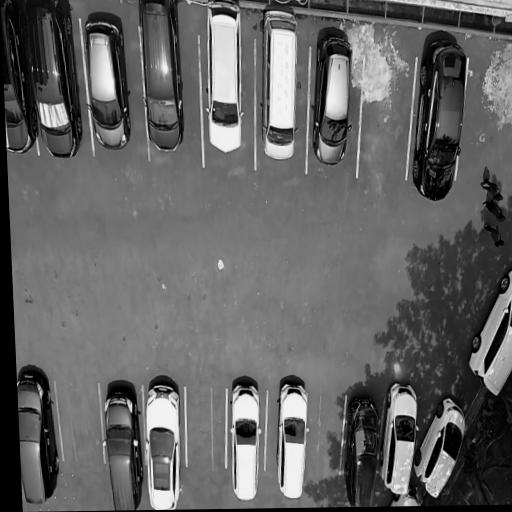Car: (403, 31, 474, 205), (26, 0, 85, 174), (252, 6, 304, 166), (201, 0, 251, 160), (139, 0, 187, 160), (82, 17, 135, 156), (307, 30, 357, 172), (463, 261, 512, 402), (139, 375, 188, 510), (0, 0, 37, 174), (99, 373, 145, 511), (20, 361, 62, 512), (416, 396, 470, 505), (226, 378, 269, 509), (376, 383, 423, 502), (270, 377, 312, 503), (341, 387, 384, 507)
Space Available: (365, 35, 408, 189), (61, 370, 102, 480), (184, 376, 224, 481), (306, 386, 338, 491)
